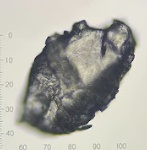microplastic: (18, 19, 137, 136)
